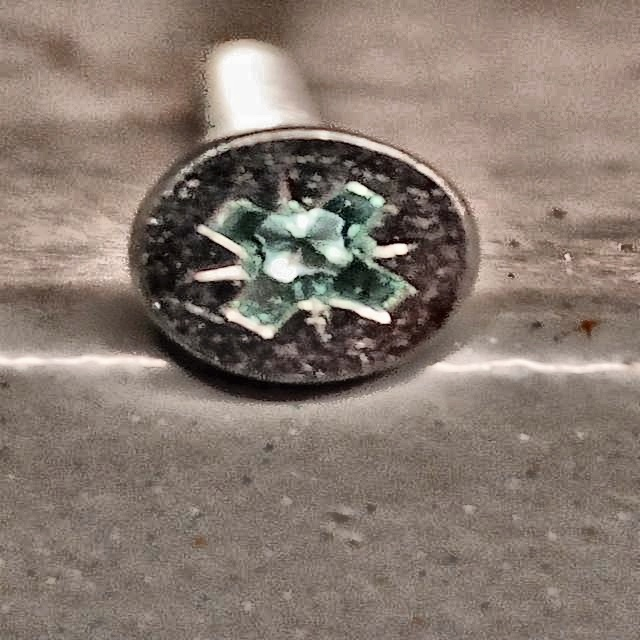pozidriv: (128, 127, 484, 389)
